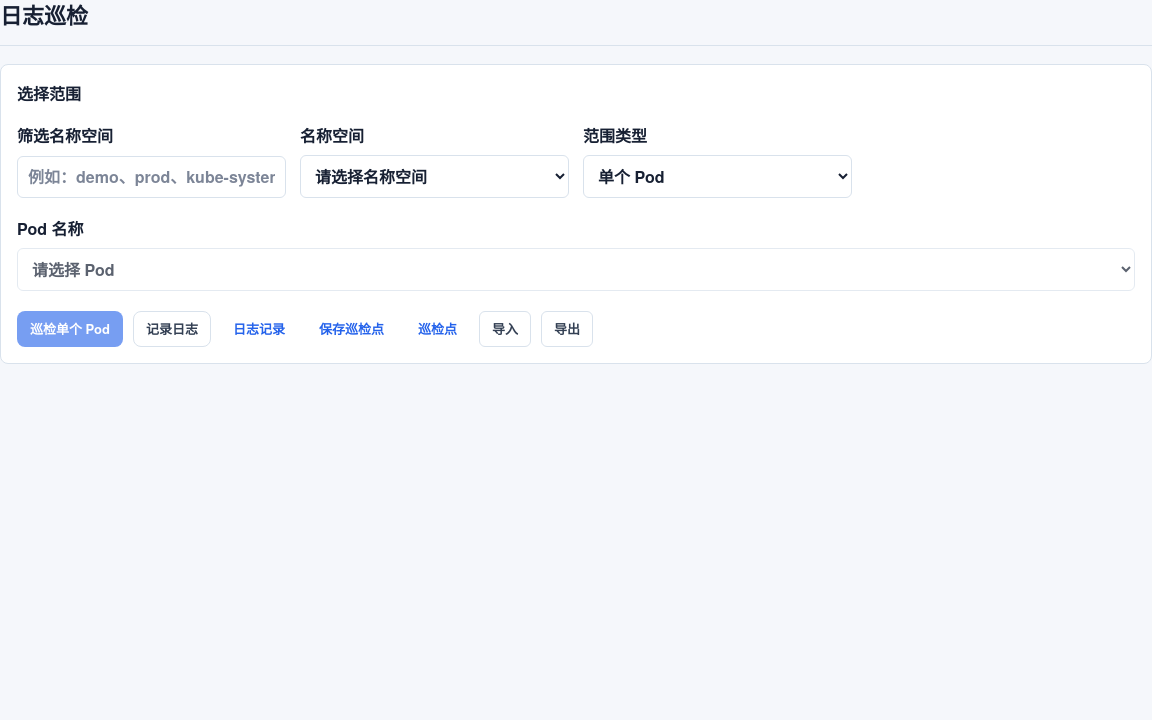
Scenario: PodInspectionPage › runs all pod mode without requiring pod name
This screenshot has width=1152, height=720.
Select "demo" in the dropdown labelled "名称空间". click: (434, 176)
box: [300,155,569,198]
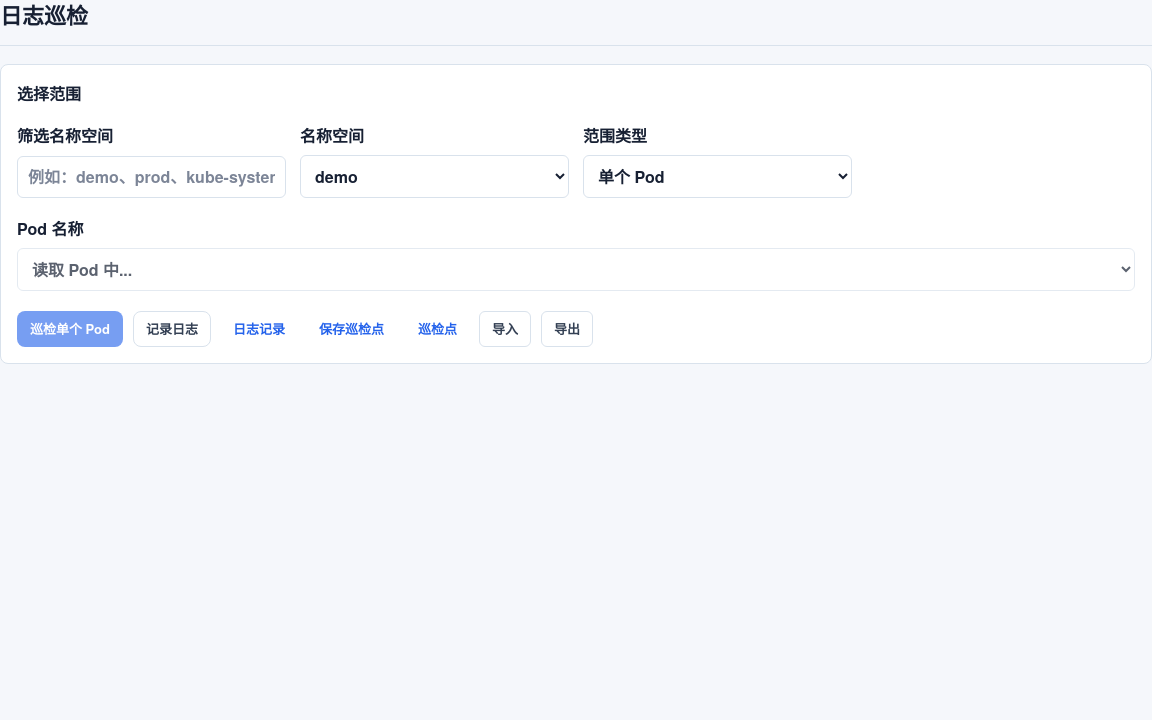
Select "全部 Pod" in the dropdown labelled "范围类型". click: (718, 176)
box: [583,155,852,198]
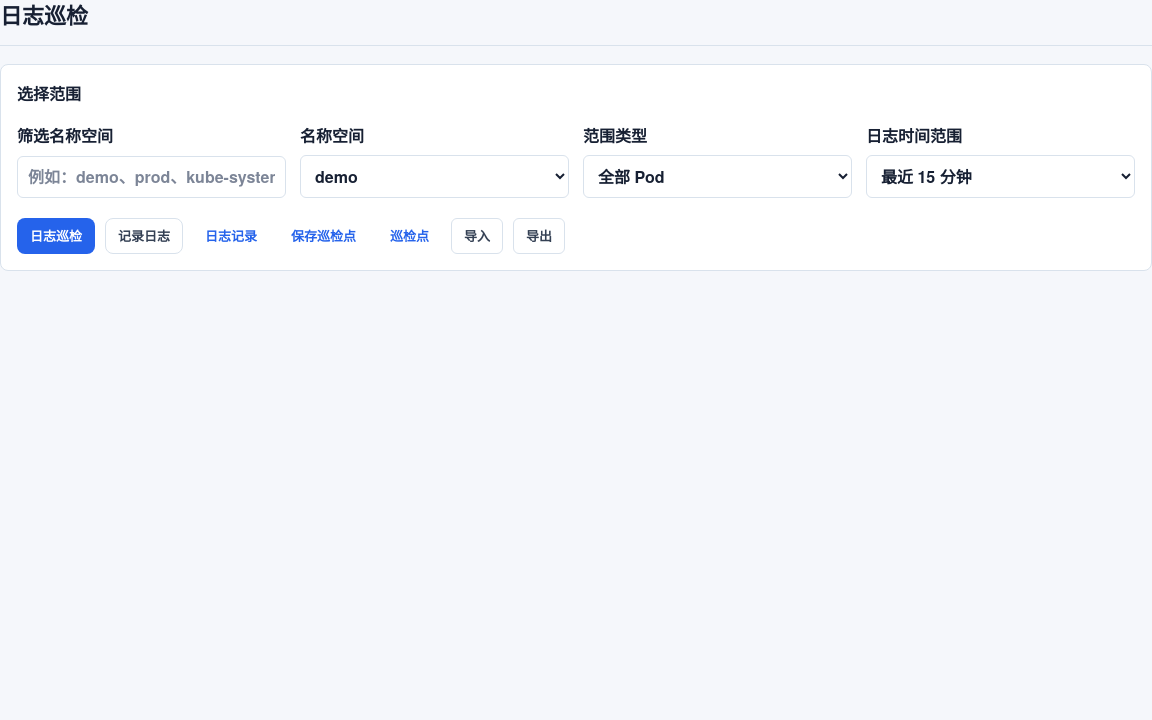
Click the button "日志巡检". click: (56, 236)
box: [17,218,95,254]
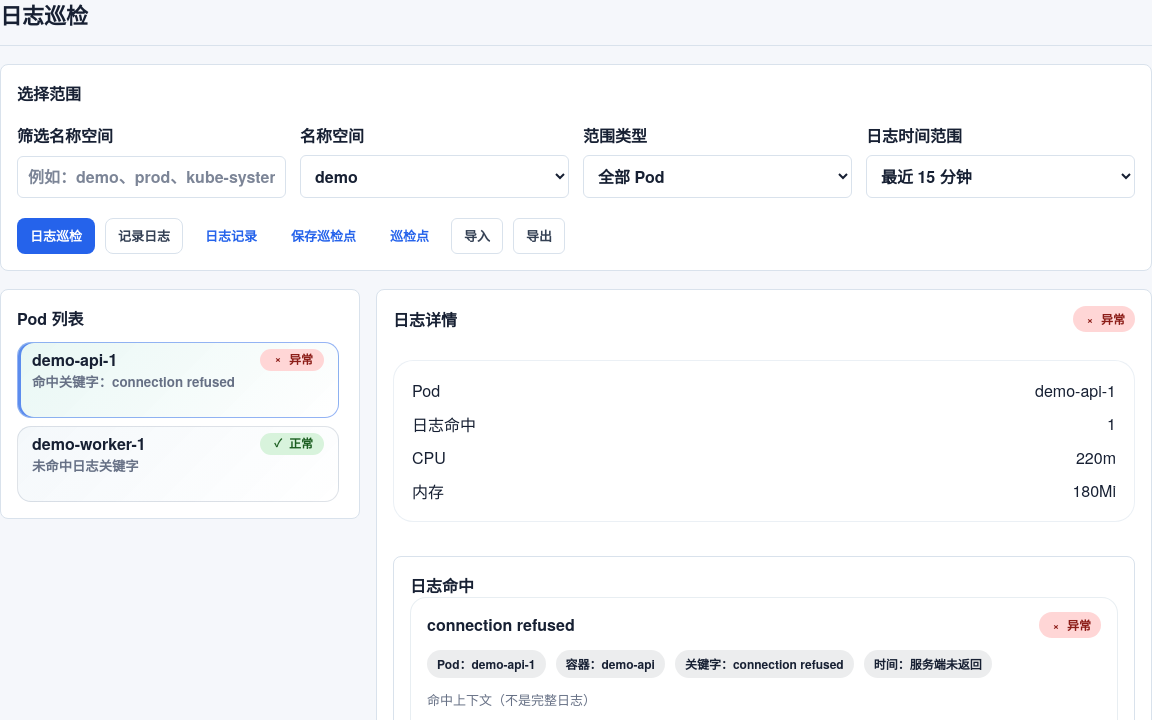
Expected: the heading "Pod 列表" is shown, [17,306,83,330]
Expected: the text "命中关键字：connection refused" is shown, [32,372,235,391]
